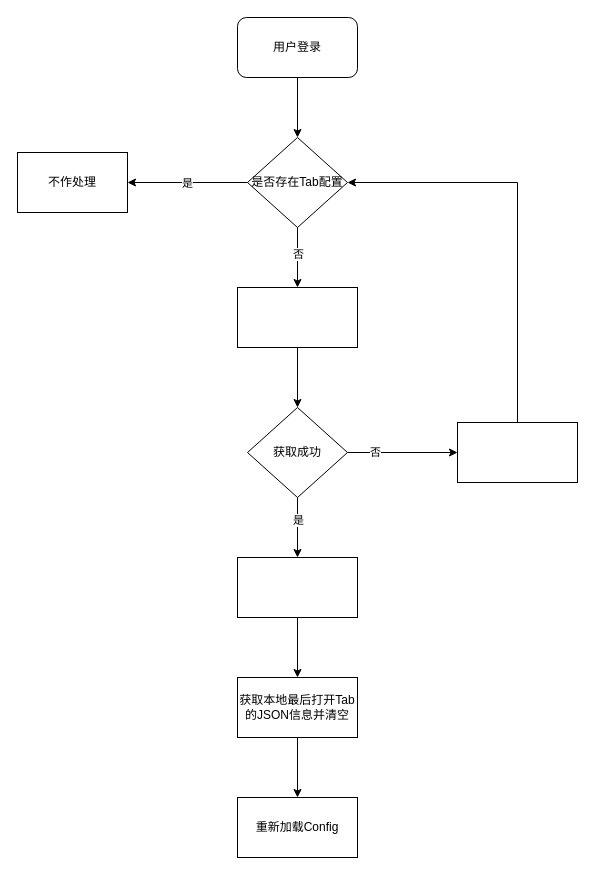
Some shapes in this 595 by 875 pixel diagram are drawn without their labels. Here are the shapes that lost their labels. From the top down, the centre of each, then its label:
At (297,317): "获取Tab配置".
At (517,452): "10s后重新获取".
At (297,587): "处理数据".
